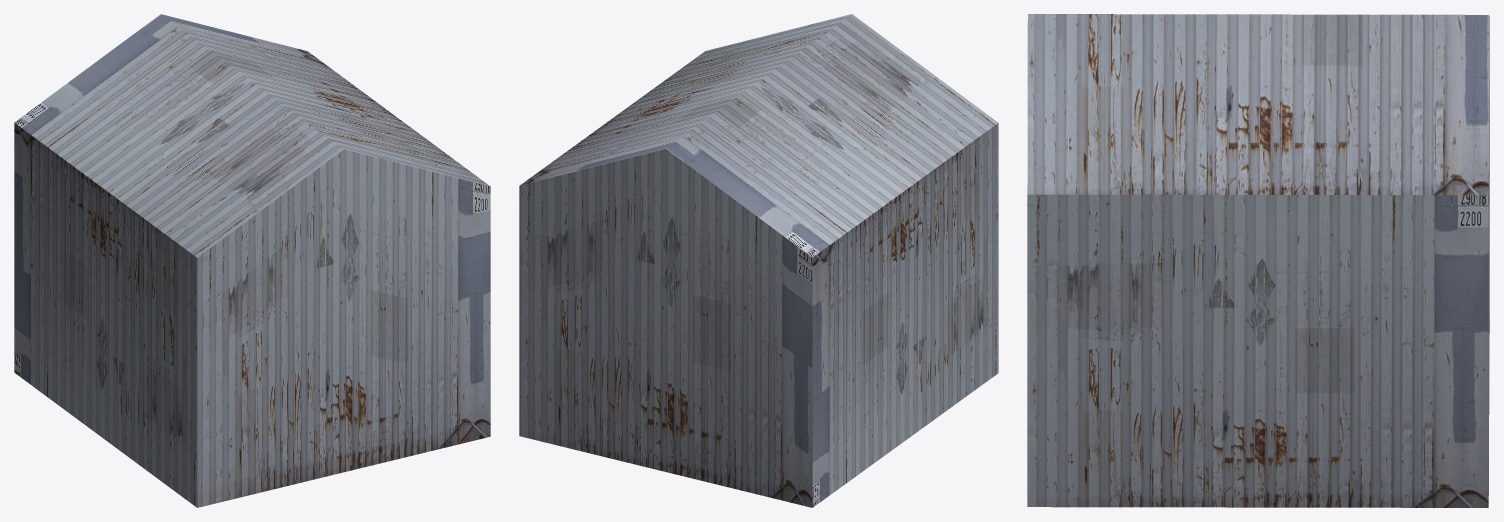
File: Showoff B 1.fbx
3 views of the same model, side by side, from view 1: azimuth 30°, elevation 25°; view 2: azimuth 150°, elevation 25°; view 3: azimuth 270°, elevation 25° (orthographic). The views are drawn at different scales.
Parts seen in each view (by area): view 1: Show_off_B1; view 2: Show_off_B1; view 3: Show_off_B1.
Boxes of the visible parts, bbox=[...] form: Show_off_B1: bbox=[14, 14, 490, 507]; Show_off_B1: bbox=[519, 14, 998, 507]; Show_off_B1: bbox=[1027, 14, 1489, 507].
Size of the model in its own units: 1321 by 1383 by 1435.
Materials: 1 (1 with a texture image).
